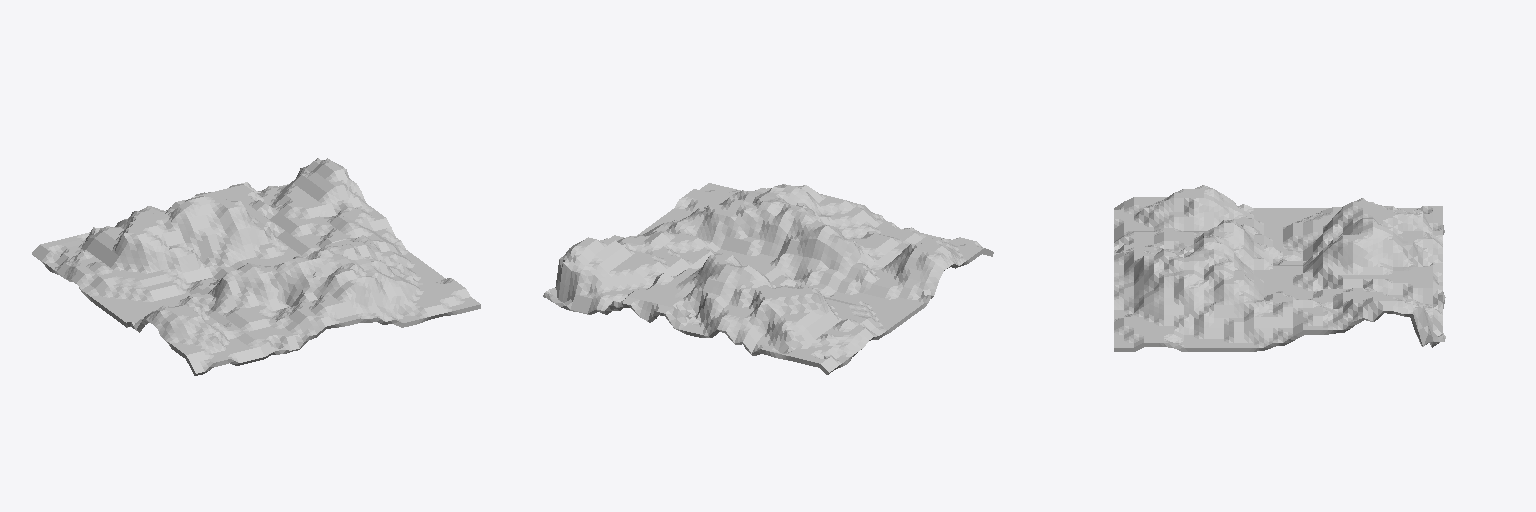
The model's file is mountain.obj.
The picture shows the model from 3 angles: view 1: azimuth 30°, elevation 25°; view 2: azimuth 150°, elevation 25°; view 3: azimuth 270°, elevation 25°; orthographic projection.
Visible parts, largest first — view 1: Plane; view 2: Plane; view 3: Plane.
Part boxes in pixels (left/top/right/bottom): Plane: left=32, top=158, right=480, bottom=375; Plane: left=543, top=183, right=993, bottom=374; Plane: left=1114, top=185, right=1445, bottom=351.
Bounding box in the file's own units: 16.29 × 2.88 × 16.29.